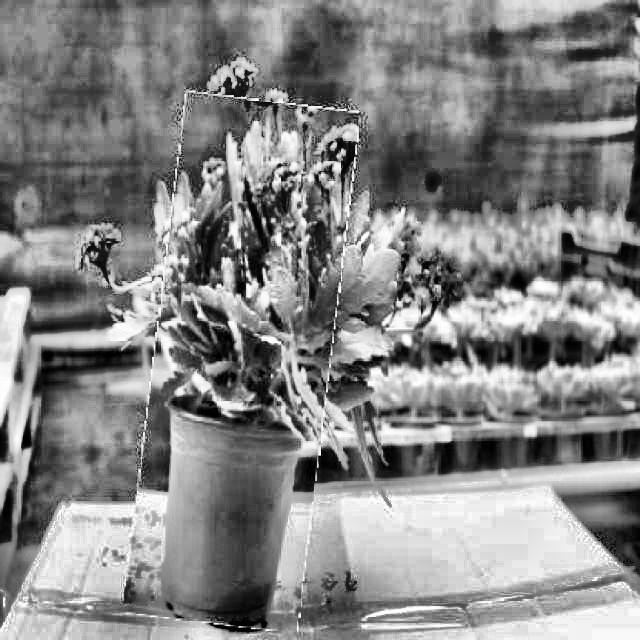plants: (138, 96, 344, 629)
